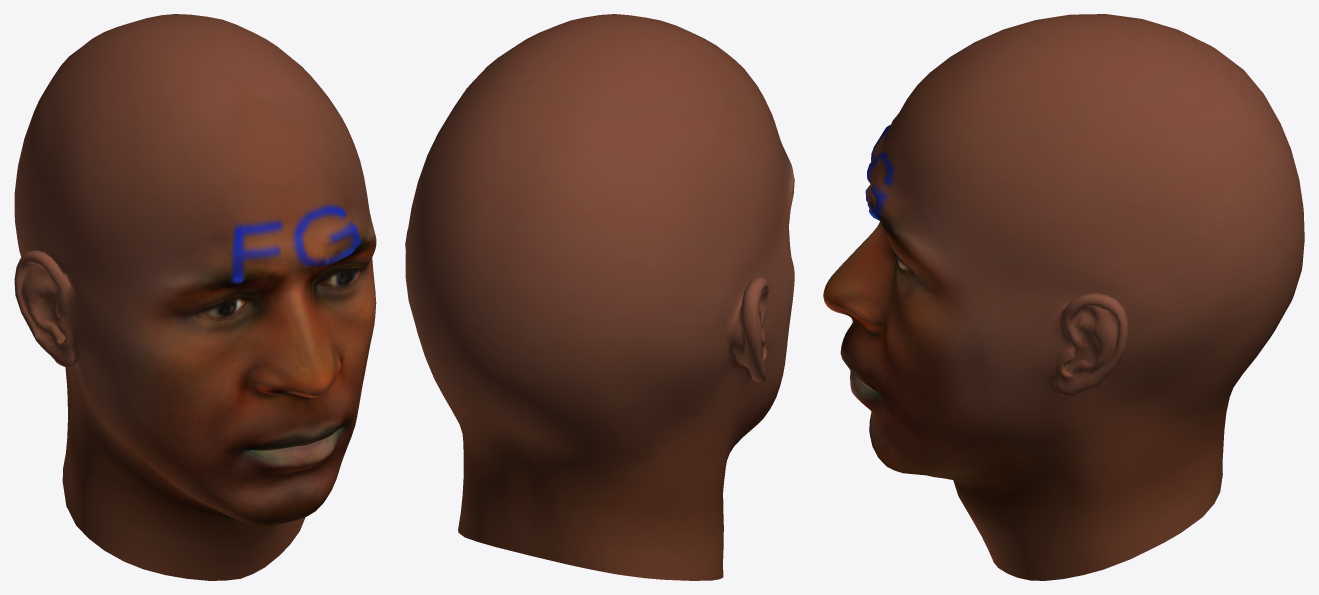
File: MaleFaced20.obj
3 views of the same model, side by side, from view 1: azimuth 30°, elevation 25°; view 2: azimuth 150°, elevation 25°; view 3: azimuth 270°, elevation 25° (orthographic). The views are drawn at different scales.
Visible parts, largest first — view 1: HeadHires; view 2: HeadHires; view 3: HeadHires.
Boxes of the visible parts, x1,y1,x2,y2 form: HeadHires: (14,14,376,580); HeadHires: (405,14,794,580); HeadHires: (823,14,1304,580).
Bounding box in the file's own units: 189 × 283 × 234.
